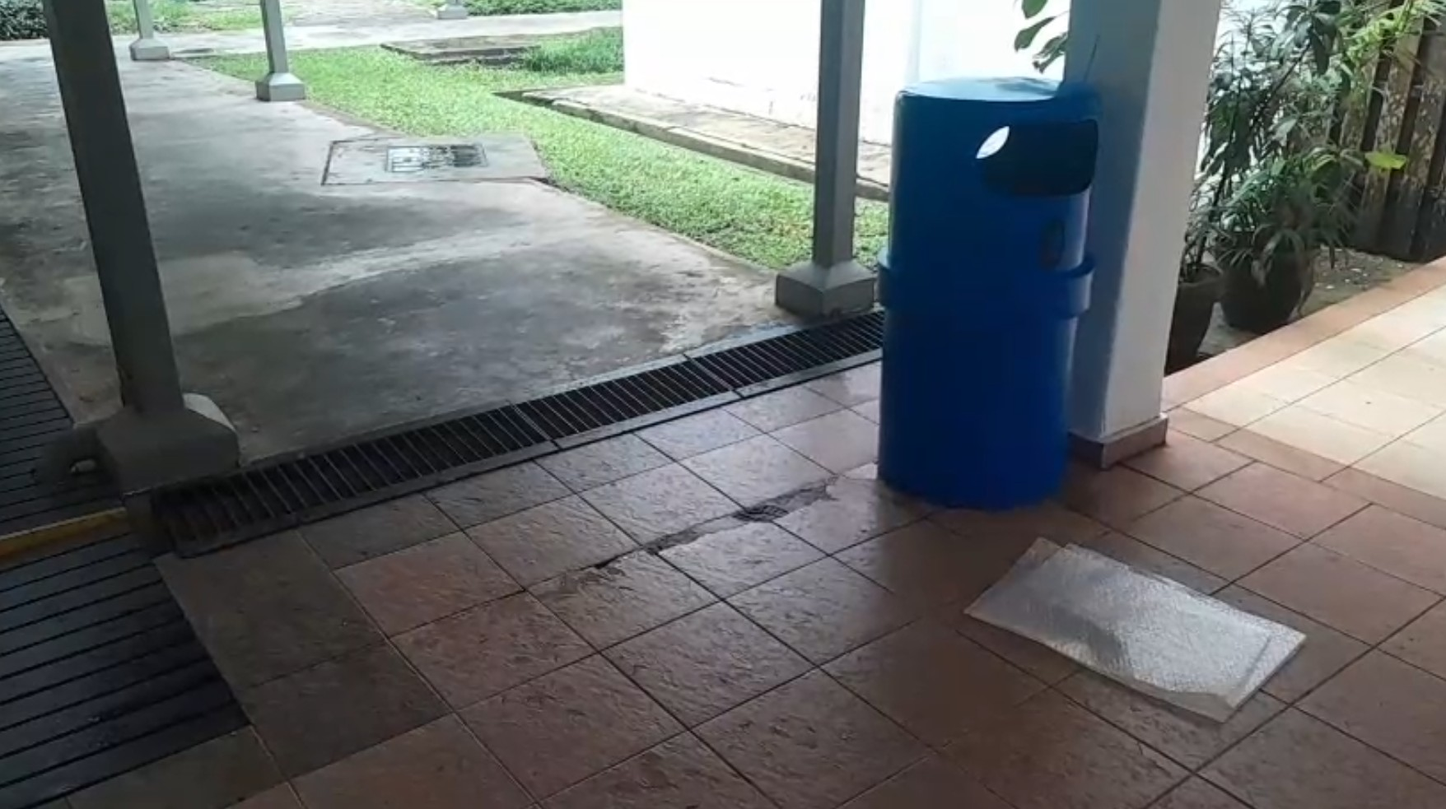bin_empty: (879, 77, 1100, 508)
normal_waste: (966, 537, 1304, 721)
